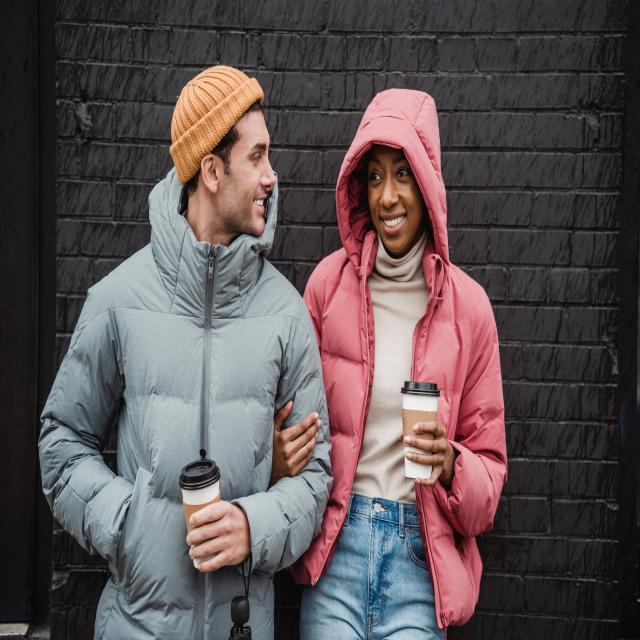cup: (178, 458, 222, 570), (401, 378, 441, 479)
